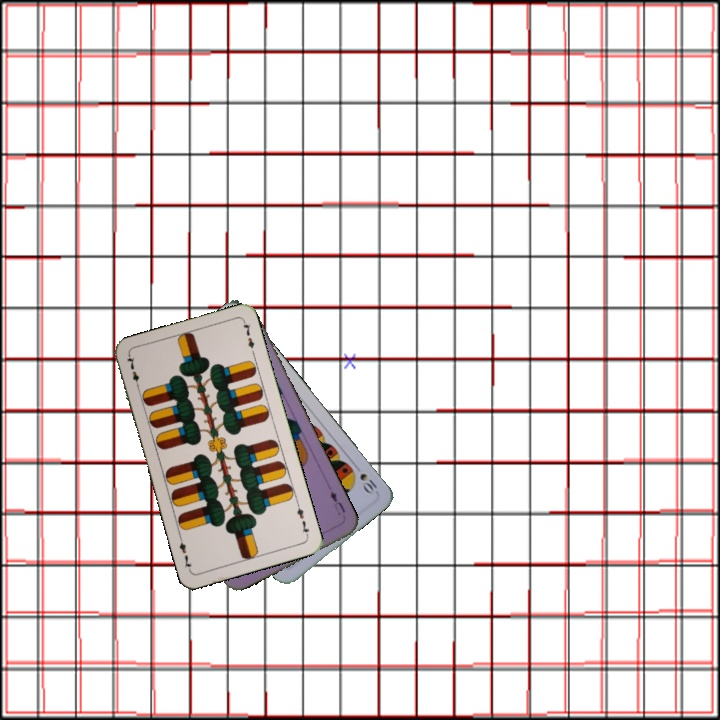E7: (293, 499, 312, 539), (123, 352, 142, 392)
EU: (326, 487, 348, 518)
S10: (356, 469, 380, 497)
